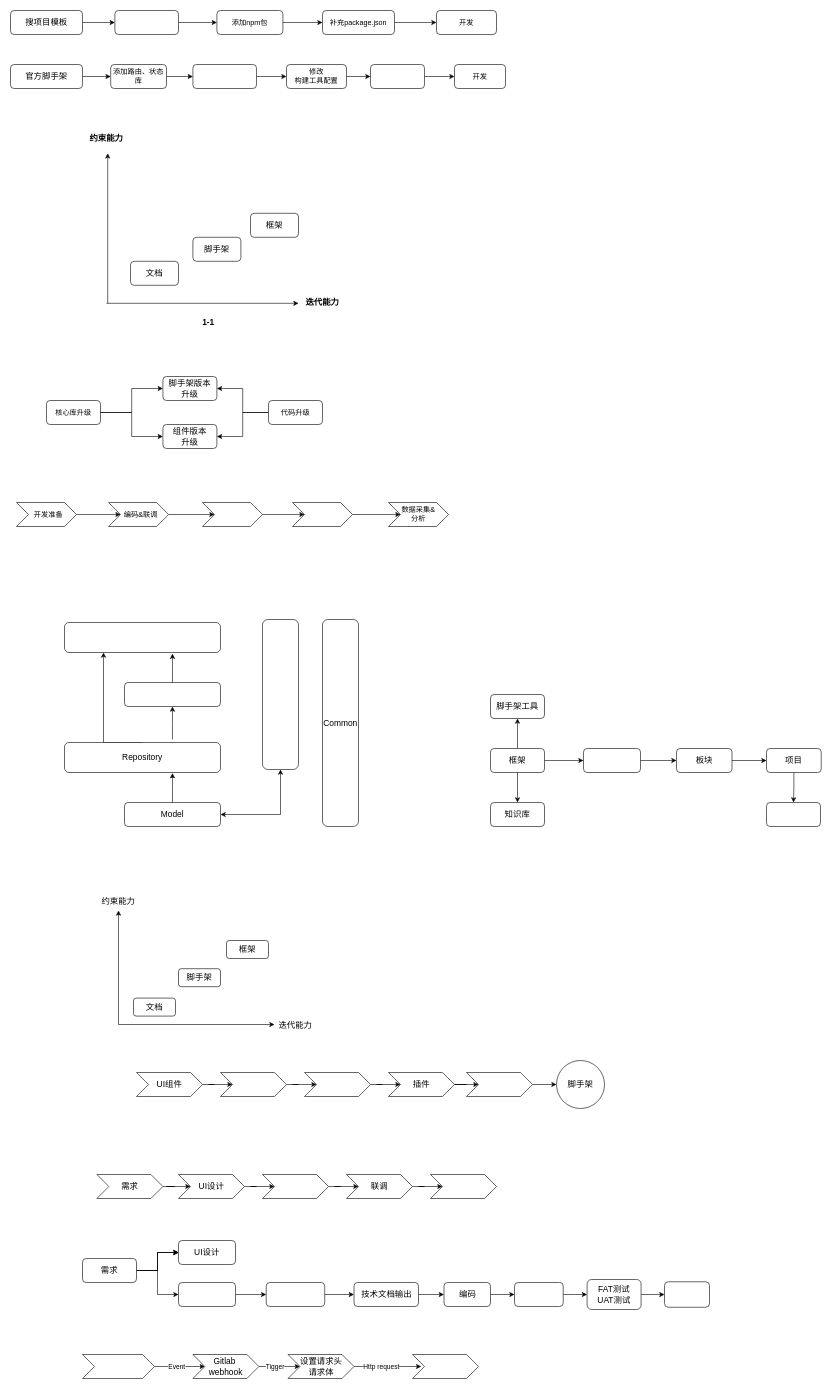
This 832x1389 diagram has some shape labels left out. The centre of each missing label's shape, as x and y in pixels:
"controller" goes at point (142, 637).
"Entity" goes at point (280, 694).
"jenkins服务" goes at point (445, 1366).
"Service" goes at point (172, 694).
"上线" goes at point (687, 1294).
"交付" goes at point (793, 814).
"删代码" goes at point (146, 22).
"打包优化" goes at point (253, 1084).
"技术方案设计" goes at point (295, 1294).
"提交" goes at point (118, 1366).
"最佳实践" goes at point (337, 1084).
"构建&部署" goes at point (322, 514).
"测试&上线" goes at point (463, 1186).
"添加 优化配置" goes at point (397, 76).
"添加UI库" goes at point (224, 76).
"组件化" goes at point (611, 760).
"自测&优化" goes at point (232, 514).
"集成测试" goes at point (538, 1294).
"集成能力" goes at point (499, 1084).
"需求分析" goes at point (207, 1294).
"页面开发" goes at point (295, 1186).
